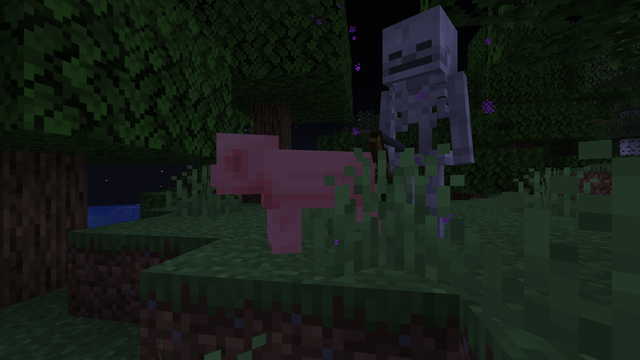cochons: (251, 144, 360, 258)
squelettes: (384, 6, 467, 258)
